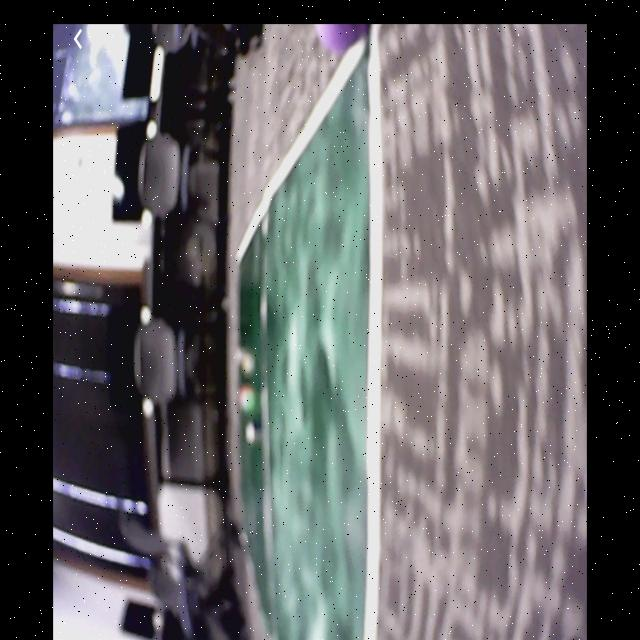ball: (317, 26, 367, 51)
